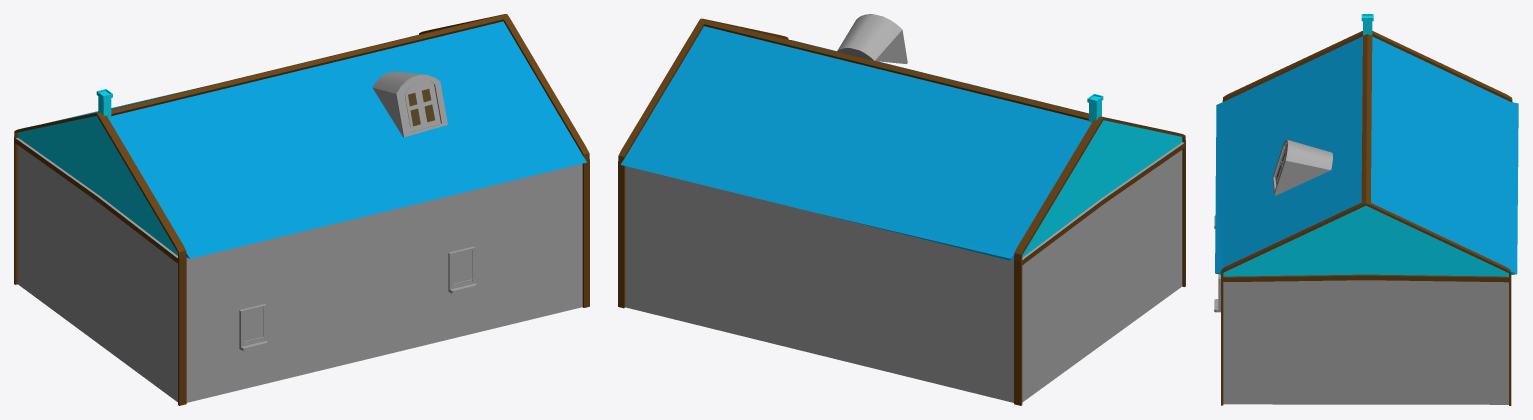
Rendered from building4.fbx.
3 views of the same model, side by side, from view 1: azimuth 30°, elevation 25°; view 2: azimuth 150°, elevation 25°; view 3: azimuth 270°, elevation 25° (orthographic). The views are drawn at different scales.
Parts seen in each view (by area): view 1: pCube30, pCube24, pCube25, pCube27; view 2: pCube30, pCube24; view 3: pCube30, pCube24.
Boxes of the visible parts, box(x1,y1,x2,y2) form: pCube30: box(14, 14, 589, 405); pCube24: box(372, 71, 447, 137); pCube25: box(448, 246, 476, 293); pCube27: box(239, 304, 267, 350); pCube30: box(618, 18, 1185, 405); pCube24: box(837, 14, 907, 63); pCube30: box(1215, 31, 1518, 405); pCube24: box(1272, 139, 1332, 195).
Bounding box in the file's own units: 1014 × 591 × 746.
